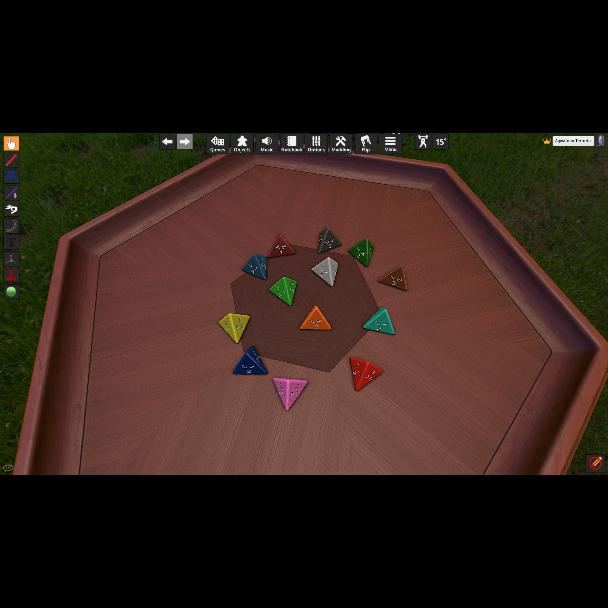d4: (273, 377, 307, 411), (350, 357, 382, 391), (234, 346, 268, 374), (220, 313, 250, 343), (363, 308, 395, 335), (269, 277, 297, 307), (311, 258, 338, 288), (348, 238, 374, 268), (300, 306, 332, 330), (378, 265, 406, 291), (242, 253, 268, 280), (317, 228, 341, 254), (268, 234, 294, 258)
